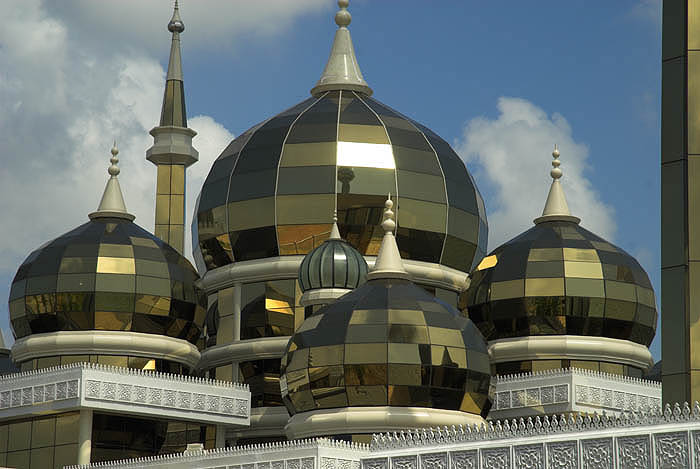Mosque: (3, 4, 688, 423)
